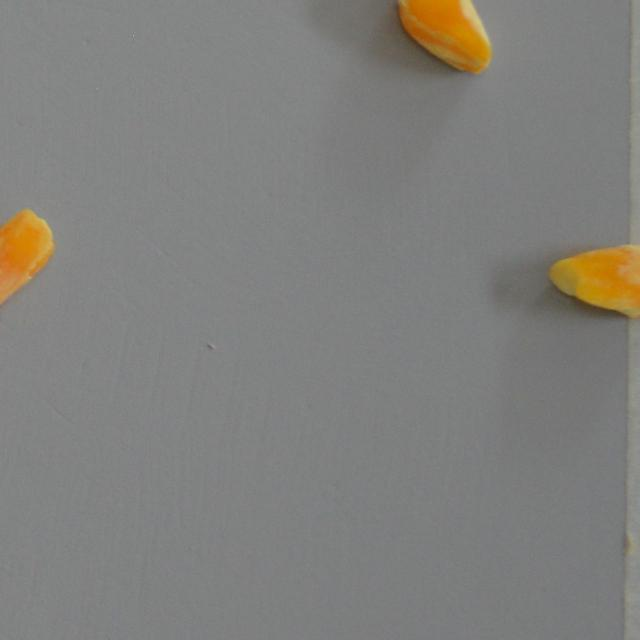pelicula: (544, 242, 640, 321), (392, 0, 494, 74), (0, 204, 58, 324)
